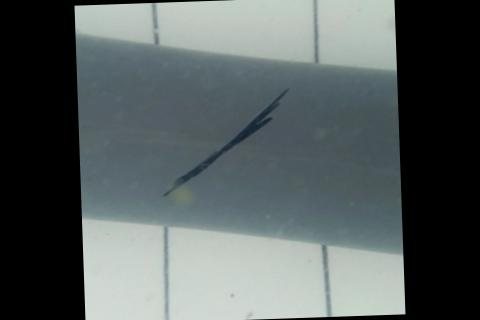keretakan: (156, 85, 296, 197)
